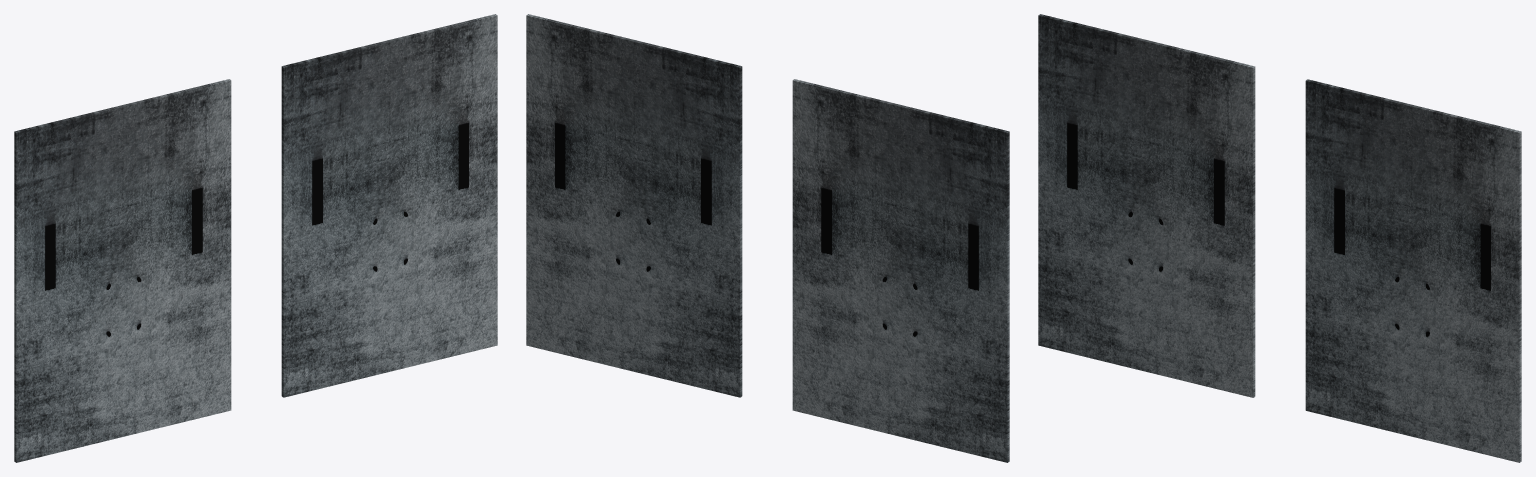
Rendered from store_72.obj.
3 renders of one model, left to right at view 1: azimuth 30°, elevation 25°; view 2: azimuth 150°, elevation 25°; view 3: azimuth 330°, elevation 25°, orthographic.
Size of the model in its own units: 77.82 by 50.99 by 0.5613.
